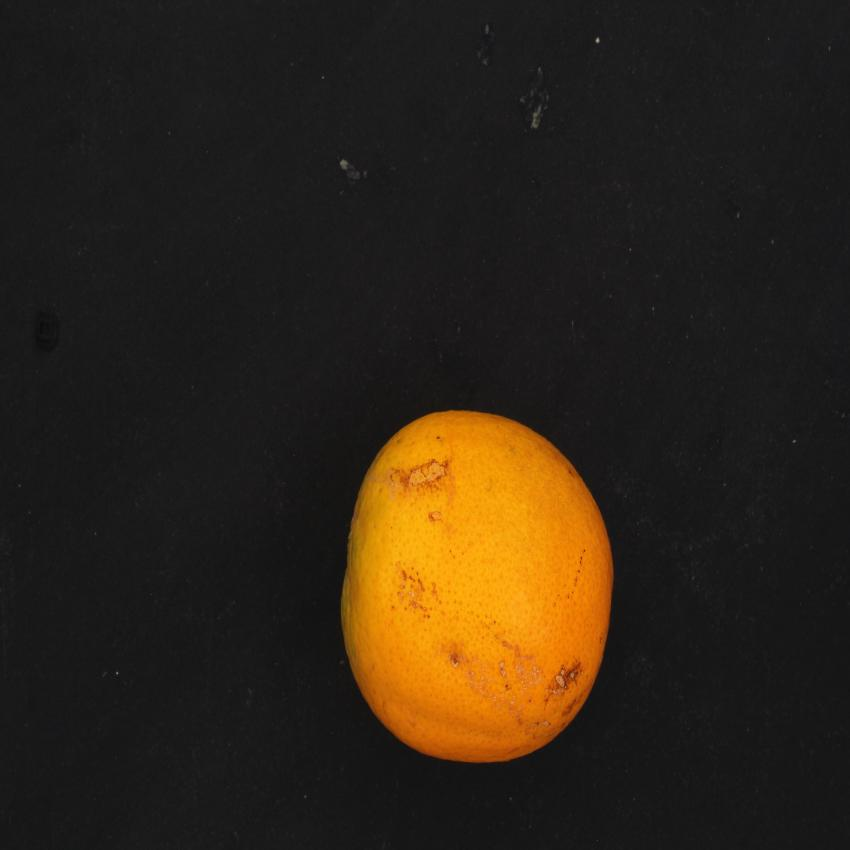Mal estado: (330, 395, 640, 777)
